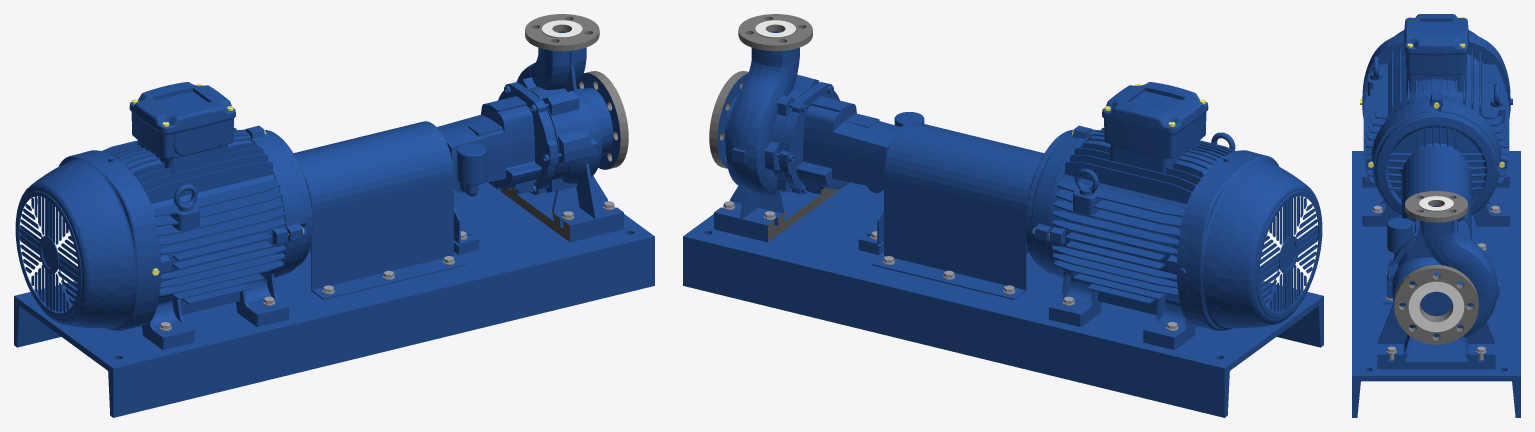
The model's file is modelo.glb.
3 renders of one model, left to right at view 1: azimuth 30°, elevation 25°; view 2: azimuth 150°, elevation 25°; view 3: azimuth 270°, elevation 25°, orthographic. The views are drawn at different scales.
Visible parts, largest first — view 1: Base 04165c, Motor Carcaca 04165c, Motor Ventilacao 04165c, Acoplamento 04165c, Voluta 04165c, Mancal 04165c, Caixa Ligacao 04165c, Voluta 373737, Selo Mecanico 04165c, Voluta 1e1e1e; view 2: Base 04165c, Motor Carcaca 04165c, Motor Ventilacao 04165c, Acoplamento 04165c, Voluta 04165c, Mancal 04165c, Caixa Ligacao 04165c, Voluta 373737, Selo Mecanico 04165c, Voluta 1e1e1e; view 3: Motor Carcaca 04165c, Base 04165c, Voluta 04165c, Voluta 373737, Acoplamento 04165c, Motor Ventilacao 04165c, Voluta ffffff, Caixa Ligacao 04165c, Mancal 04165c, Selo Mecanico 04165c, Voluta 5d5d6d.
Part boxes in pixels (x1,y1,x2,y2): Base 04165c: (14, 182, 654, 417); Motor Carcaca 04165c: (76, 82, 312, 349); Motor Ventilacao 04165c: (15, 150, 160, 330); Acoplamento 04165c: (293, 121, 453, 290); Voluta 04165c: (509, 31, 623, 242); Mancal 04165c: (437, 86, 549, 254); Caixa Ligacao 04165c: (105, 83, 235, 191); Voluta 373737: (525, 14, 628, 168); Selo Mecanico 04165c: (498, 79, 570, 210); Voluta 1e1e1e: (500, 187, 569, 241); Base 04165c: (683, 182, 1323, 417); Motor Carcaca 04165c: (1025, 82, 1261, 349); Motor Ventilacao 04165c: (1177, 150, 1322, 330); Acoplamento 04165c: (884, 121, 1044, 290); Voluta 04165c: (714, 31, 828, 242); Mancal 04165c: (788, 86, 924, 254); Caixa Ligacao 04165c: (1104, 83, 1232, 184); Voluta 373737: (709, 14, 812, 168); Selo Mecanico 04165c: (771, 79, 839, 210); Voluta 1e1e1e: (768, 187, 837, 241); Motor Carcaca 04165c: (1362, 30, 1510, 226); Base 04165c: (1352, 151, 1520, 417); Voluta 04165c: (1377, 205, 1499, 369); Voluta 373737: (1394, 191, 1478, 344); Acoplamento 04165c: (1401, 145, 1471, 235); Motor Ventilacao 04165c: (1362, 30, 1512, 118); Voluta ffffff: (1408, 196, 1464, 332); Caixa Ligacao 04165c: (1373, 14, 1472, 89); Mancal 04165c: (1387, 216, 1471, 256); Selo Mecanico 04165c: (1389, 232, 1417, 268); Voluta 5d5d6d: (1386, 346, 1486, 359).
Bounding box in the file's own units: 1.3 × 0.5644 × 0.4.
